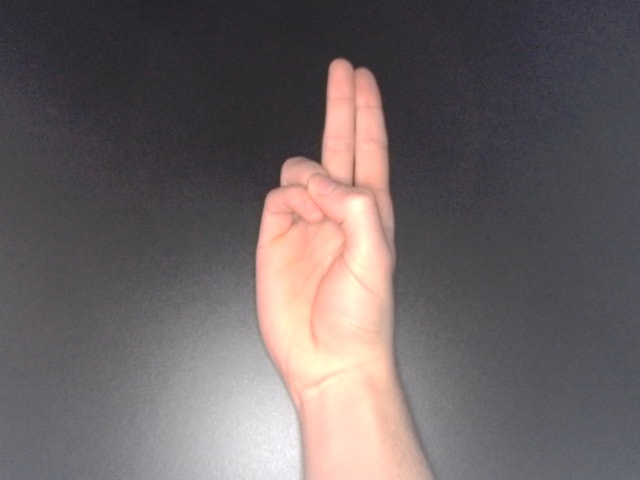r: (249, 52, 402, 405)
